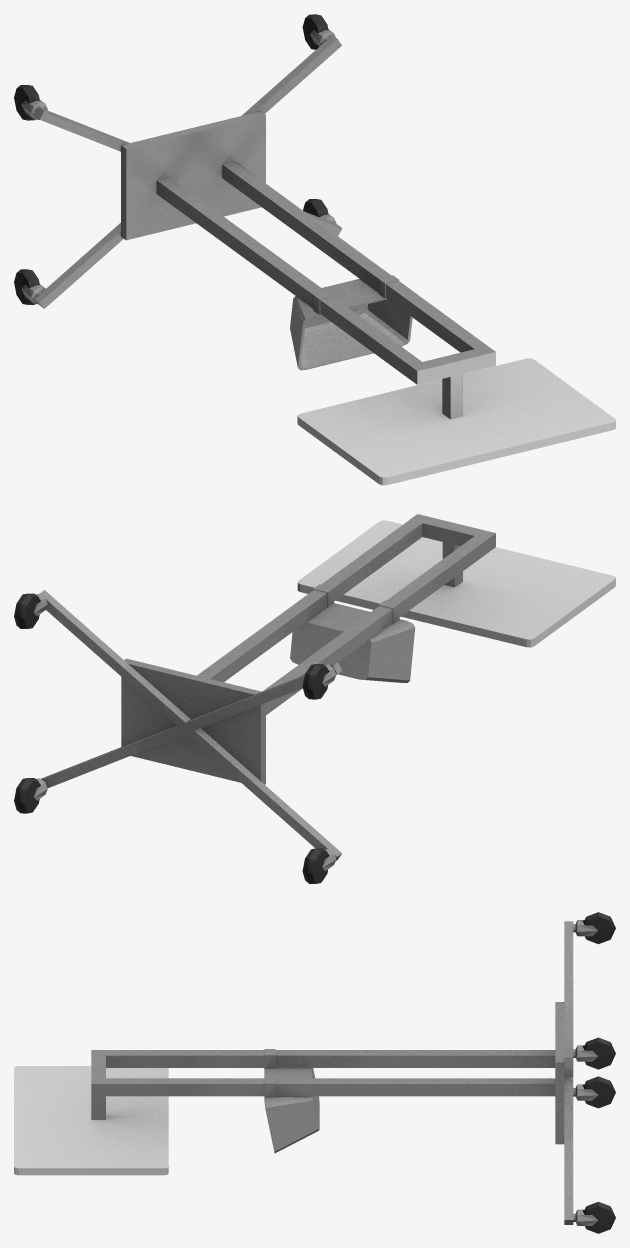
Rendered from InstrumentCart2.dae.
3 renders of one model, top to bottom at view 1: azimuth 30°, elevation 25°; view 2: azimuth 150°, elevation 25°; view 3: azimuth 270°, elevation 25°, orthographic. The views are drawn at different scales.
Parts seen in each view (by area): view 1: node; view 2: node; view 3: node.
Boxes of the visible parts, bbox=[...] form: node: bbox=[14, 14, 615, 485]; node: bbox=[14, 514, 615, 883]; node: bbox=[14, 912, 615, 1233].
Size of the model in its own units: 0.6992 by 0.4816 by 1.34.
1 material, 1 textured.
